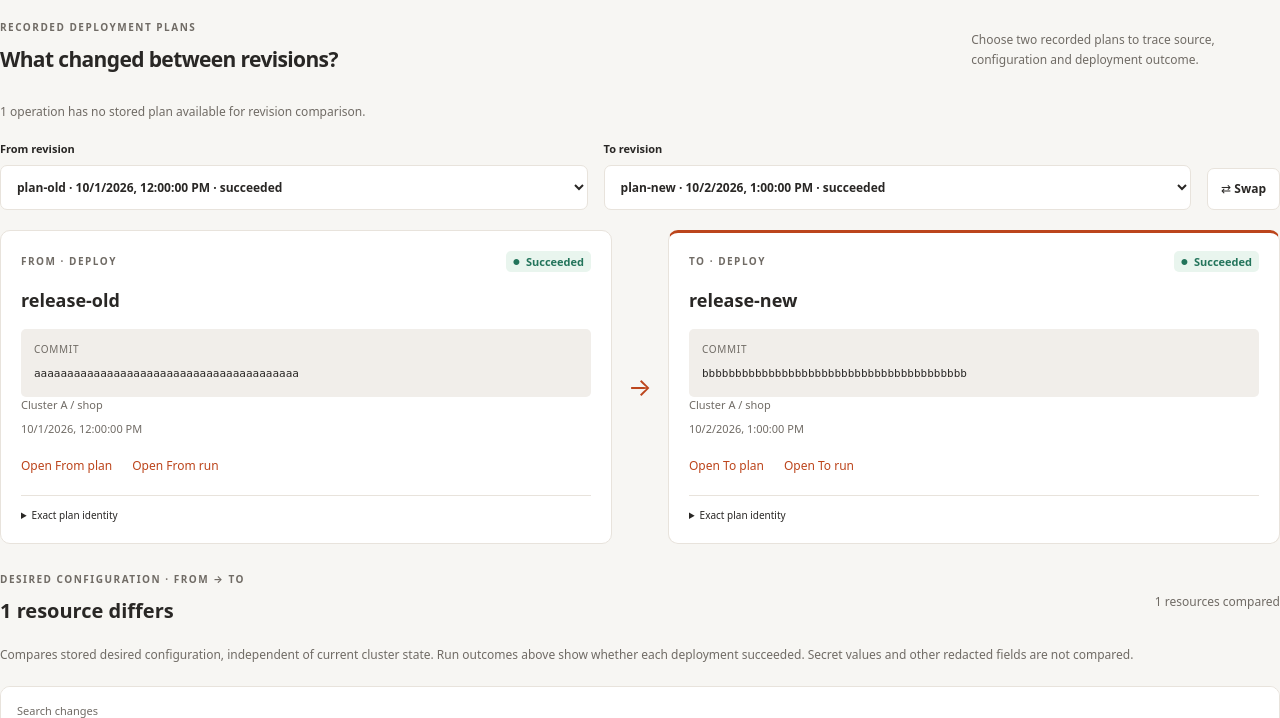
Test: recorded revision comparison › swaps comparison direction in the URL without dropping other activity filters
Click the button with aria-label "Swap revisions" at [1244, 189], box [1207,168,1279,210]
(page scrolled)
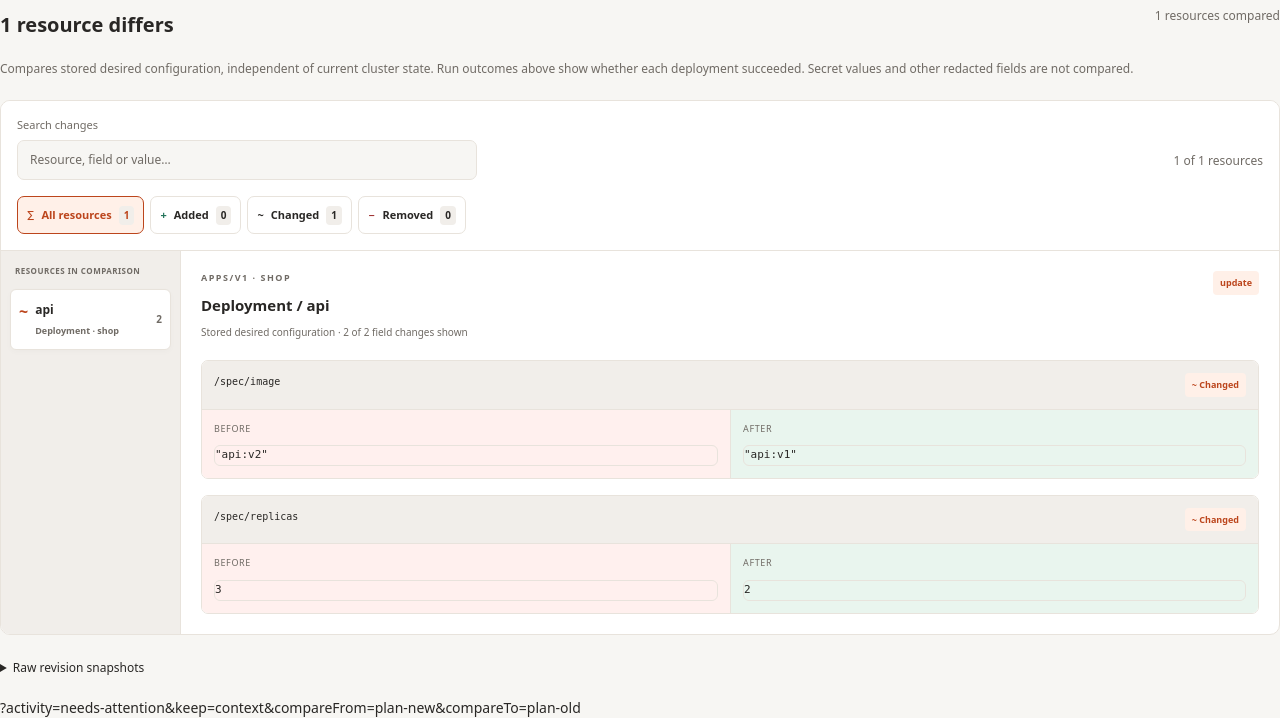
Now the text named "Current query" shows "compareFrom=plan-new", box [0,698,581,717]
Now the text named "Current query" shows "compareTo=plan-old", box [0,698,581,717]
Now the text named "Before /spec/image" shows "api:v2", box [215,448,268,461]
